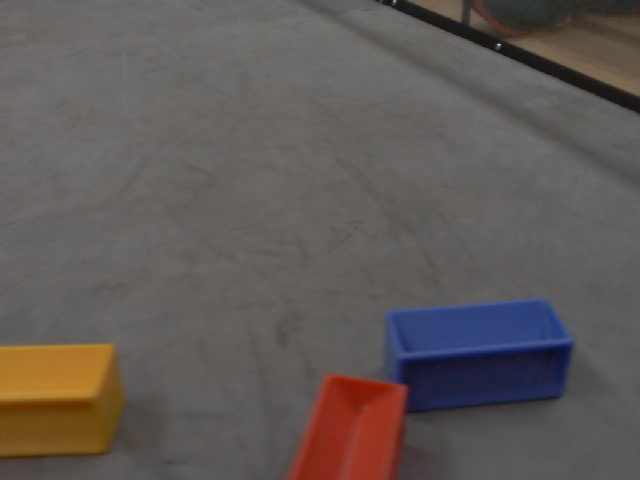BlueSample: (378, 297, 576, 407)
RedSample: (285, 370, 415, 479)
YellowSample: (1, 331, 137, 459)
